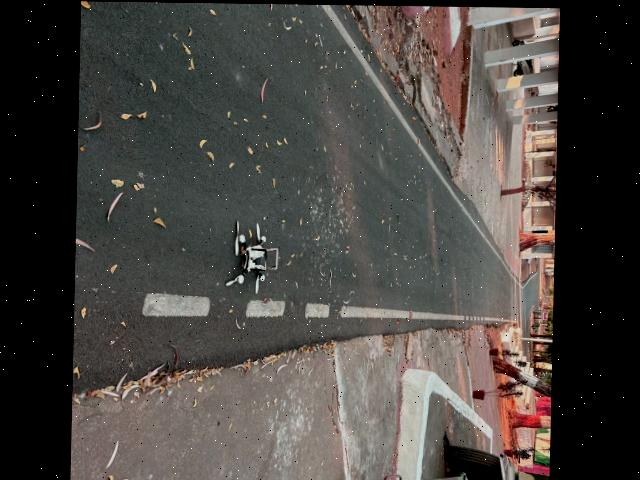drone: (208, 206, 309, 298)
